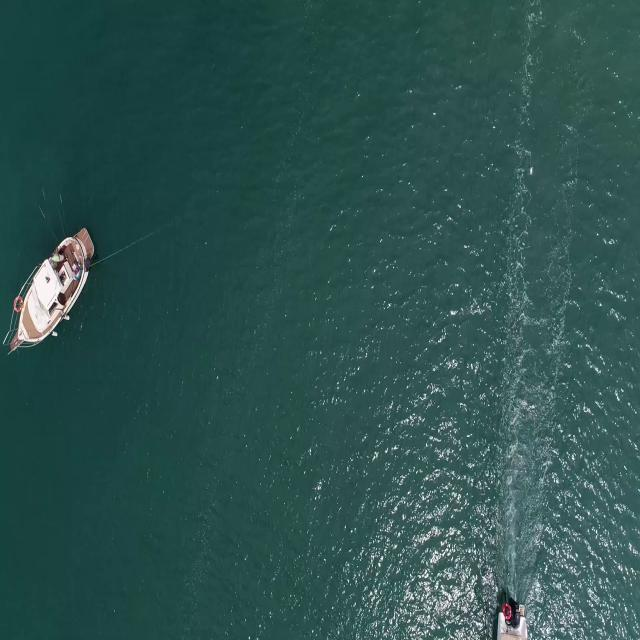boat: (10, 228, 94, 353), (492, 616, 533, 640)
life_buoy: (13, 289, 23, 313), (502, 601, 513, 620)
person: (49, 251, 66, 264), (71, 262, 83, 278)
